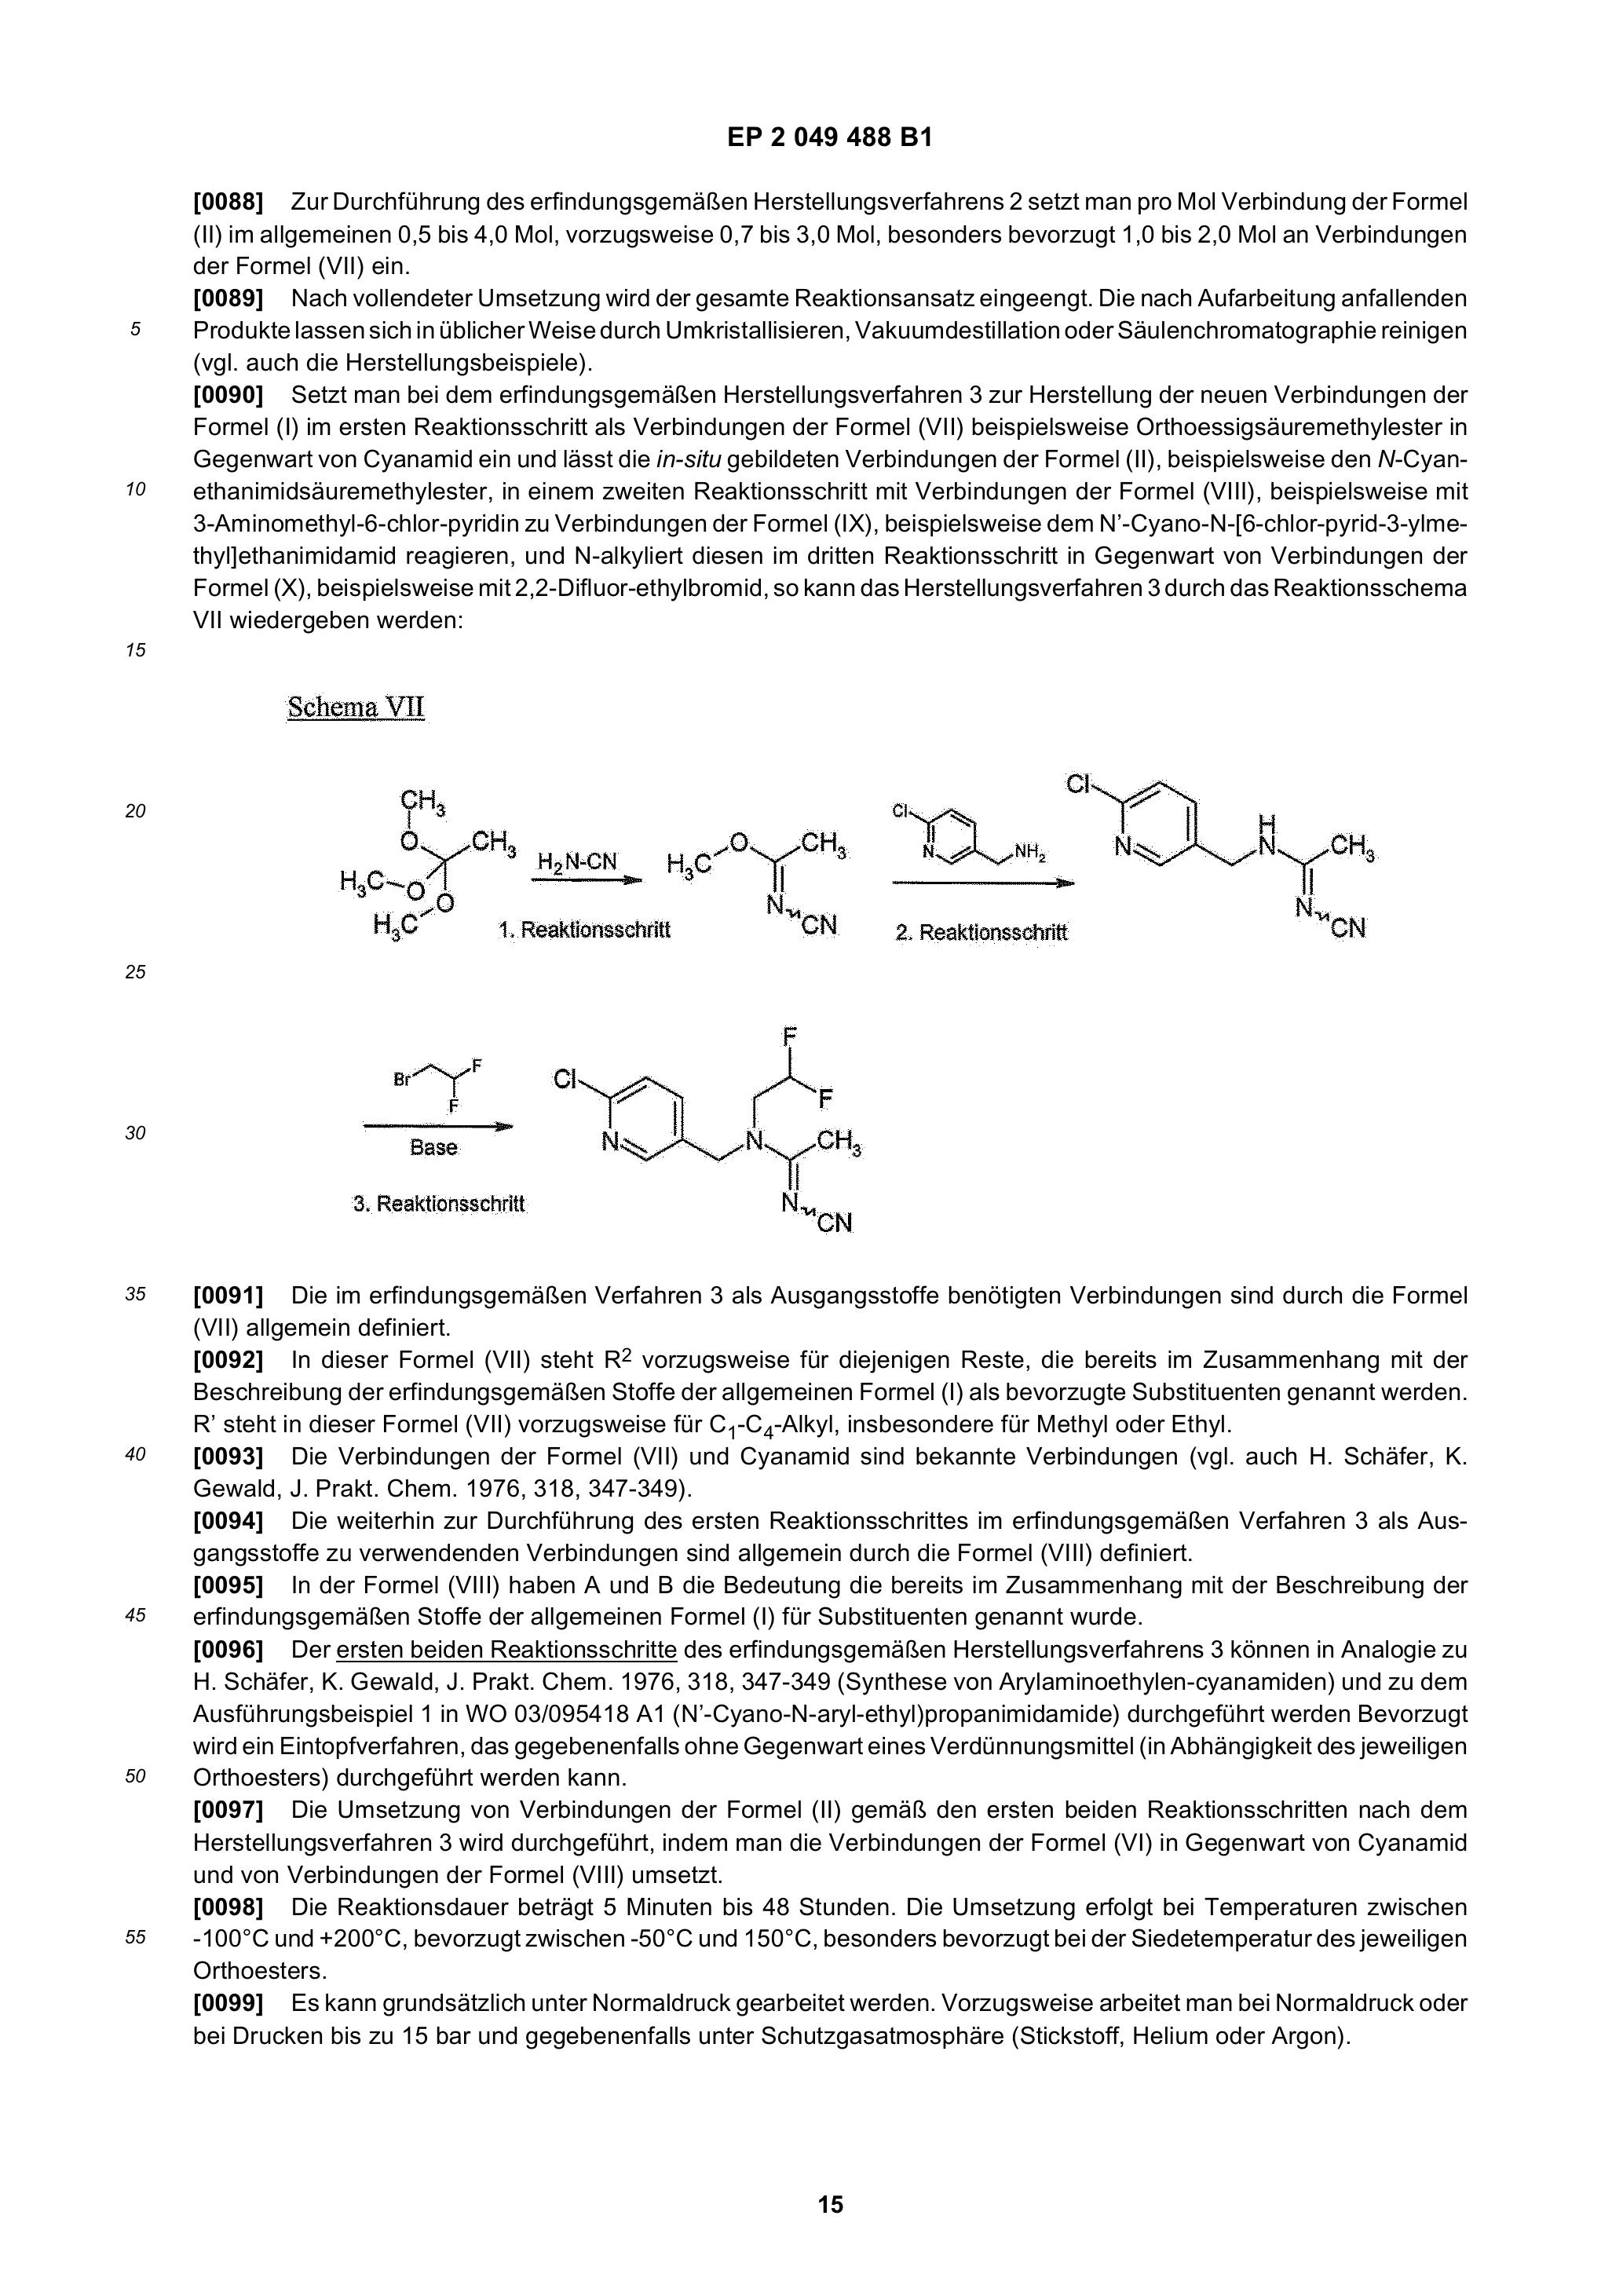reactions: (263, 675, 1405, 1247)
